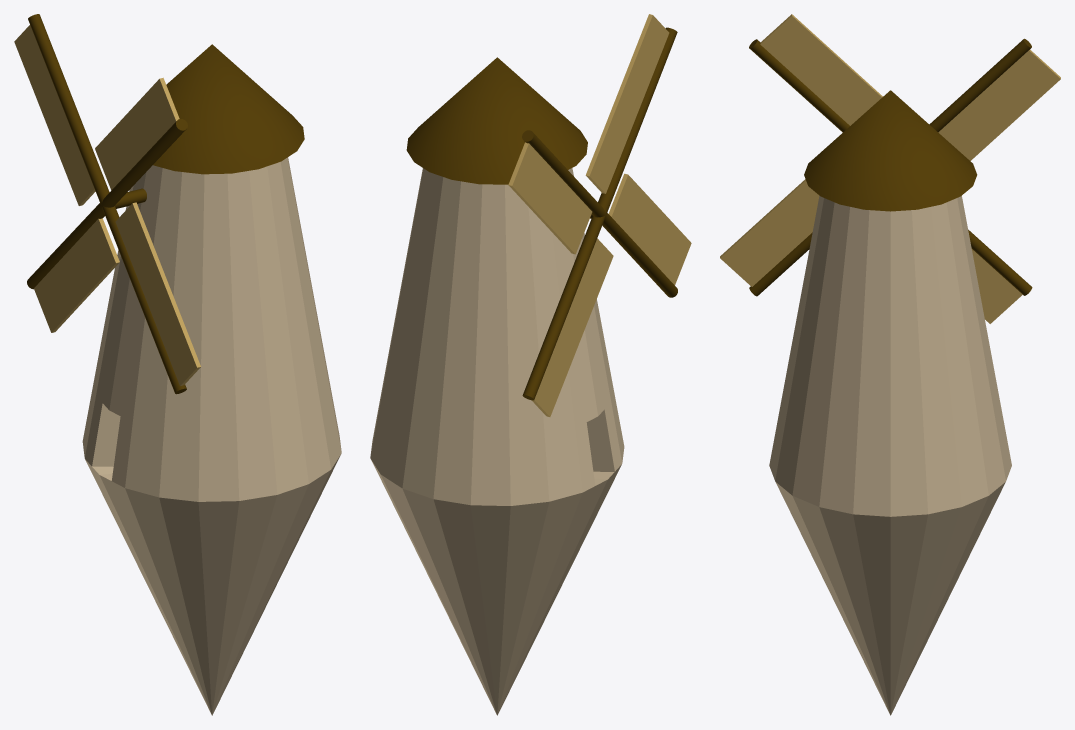
File: Windmill.fbx
3 renders of one model, left to right at view 1: azimuth 30°, elevation 25°; view 2: azimuth 150°, elevation 25°; view 3: azimuth 270°, elevation 25°, orthographic. The views are drawn at different scales.
Parts seen in each view (by area): view 1: pCylinder1, pCone1, pasted__pCube1 (×2), pasted__pasted__pCube1, pasted__pCylinder3, pCube1, pCylinder3; view 2: pCylinder1, pCone1, pasted__pCube1 (×2), pCube1, pCylinder3, pasted__pasted__pCube1, pasted__pCylinder3; view 3: pCylinder1, pCone1, pasted__pCube1 (×2), pCube1, pasted__pasted__pCube1, pasted__pCylinder3, pCylinder3.
Boxes of the visible parts, <box> form: pCylinder1: <box>82,157,341,715</box>; pCone1: <box>153,44,304,174</box>; pasted__pCube1 (×2): <box>14,25,119,332</box>; pasted__pasted__pCube1: <box>115,202,200,385</box>; pasted__pCylinder3: <box>28,14,186,394</box>; pCube1: <box>95,77,179,190</box>; pCylinder3: <box>27,119,187,289</box>; pCylinder1: <box>370,168,624,715</box>; pCone1: <box>406,57,587,184</box>; pasted__pCube1 (×2): <box>508,142,613,416</box>; pCube1: <box>585,14,669,193</box>; pCylinder3: <box>522,27,677,400</box>; pasted__pasted__pCube1: <box>608,173,691,285</box>; pasted__pCylinder3: <box>522,130,677,297</box>; pCylinder1: <box>769,195,1011,715</box>; pCone1: <box>804,90,977,211</box>; pasted__pCube1 (×2): <box>938,49,1060,323</box>; pCube1: <box>760,14,882,125</box>; pasted__pasted__pCube1: <box>720,179,819,286</box>; pasted__pCylinder3: <box>749,38,1031,296</box>; pCylinder3: <box>749,39,1032,295</box>.
Bounding box in the file's own units: 6.14 × 18.24 × 8.62.
